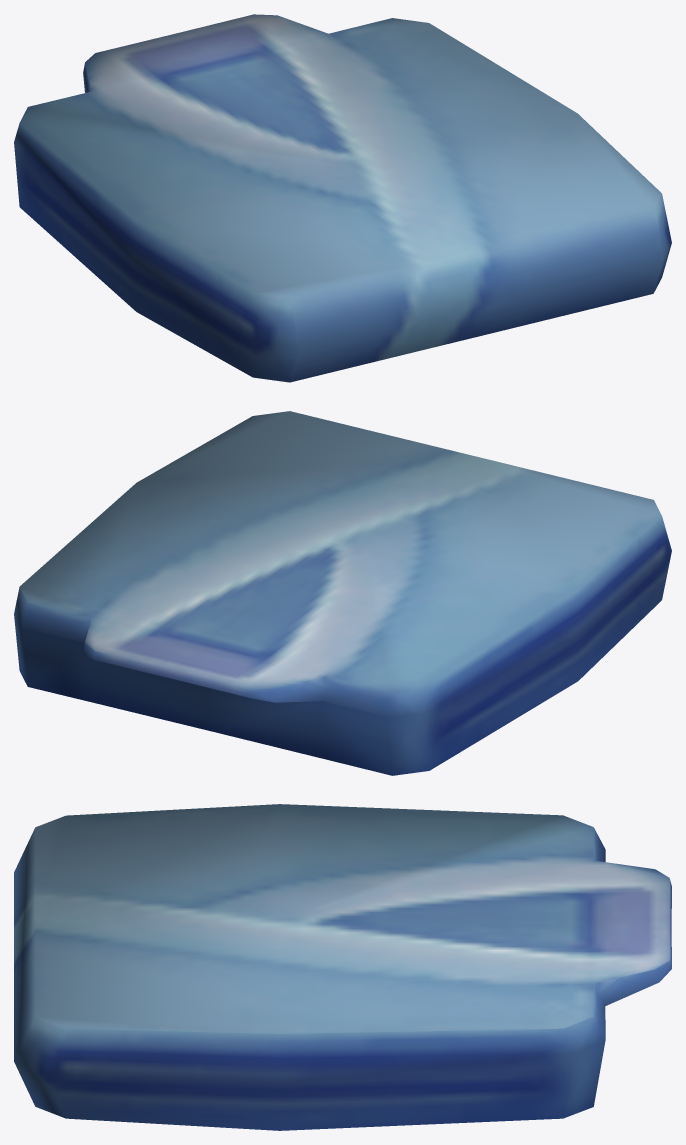
3 renders of one model, top to bottom at view 1: azimuth 30°, elevation 25°; view 2: azimuth 150°, elevation 25°; view 3: azimuth 270°, elevation 25°, orthographic. The views are drawn at different scales.
Visible parts, largest first — view 1: wq_wj010_04; view 2: wq_wj010_04; view 3: wq_wj010_04.
Boxes of the visible parts, x1,y1,x2,y2 form: wq_wj010_04: (14,14,671,382); wq_wj010_04: (14,411,671,775); wq_wj010_04: (14,804,671,1130).
Size of the model in its own units: 70.53 by 13.86 by 85.31.
Materials: 1 (1 with a texture image).
